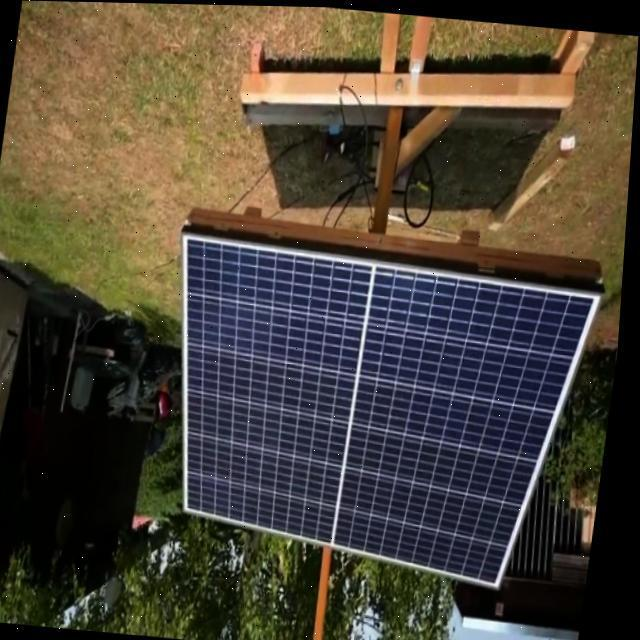Normal Solar Panel: (150, 232, 604, 586)
